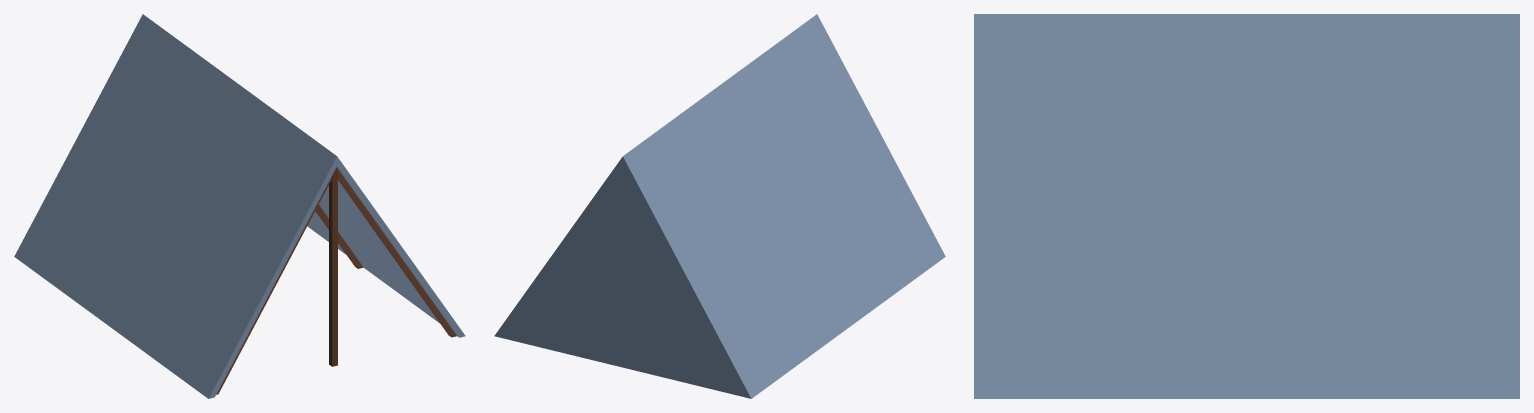
The model's file is Tent_02.fbx.
3 renders of one model, left to right at view 1: azimuth 30°, elevation 25°; view 2: azimuth 150°, elevation 25°; view 3: azimuth 270°, elevation 25°, orthographic. The views are drawn at different scales.
Parts seen in each view (by area): view 1: Tent_02; view 2: Tent_02; view 3: Tent_02.
Part boxes in pixels (x1,y1,x2,y2): Tent_02: (14, 14, 465, 398); Tent_02: (494, 14, 945, 398); Tent_02: (974, 14, 1519, 398).
Size of the model in its own units: 135 by 106 by 176.
